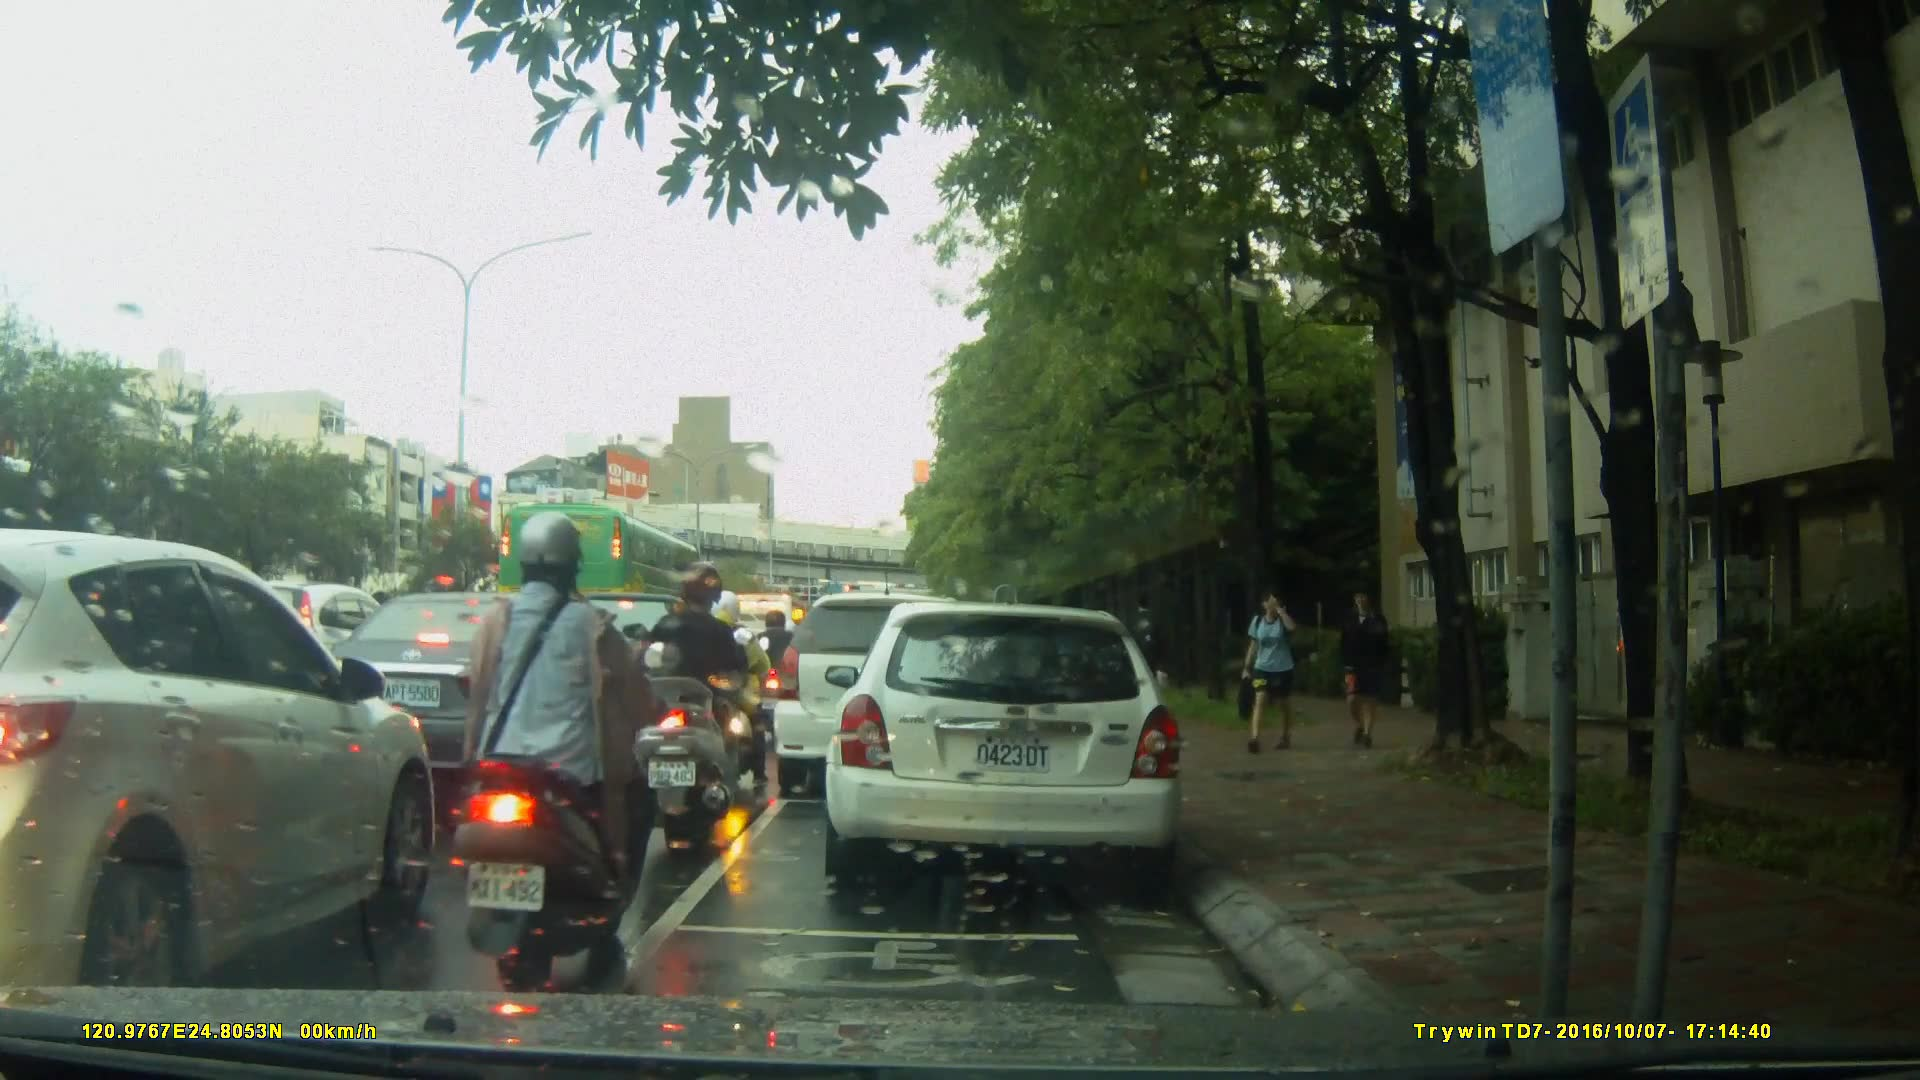pedestrian: (1216, 582, 1328, 757), (1335, 575, 1403, 761), (1123, 596, 1165, 733)
rider: (460, 513, 649, 992), (638, 566, 748, 848), (696, 586, 780, 782), (743, 609, 808, 760)
vehicle: (1, 528, 446, 987), (831, 592, 1196, 897), (312, 590, 641, 807), (770, 592, 999, 802), (495, 500, 707, 638)
